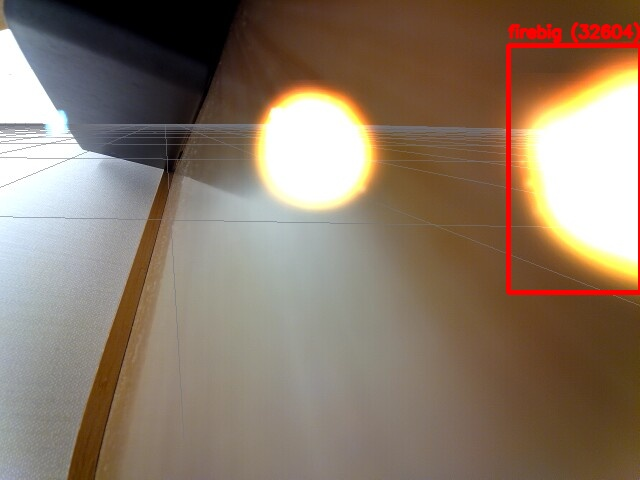firebig: (508, 45, 640, 292)
